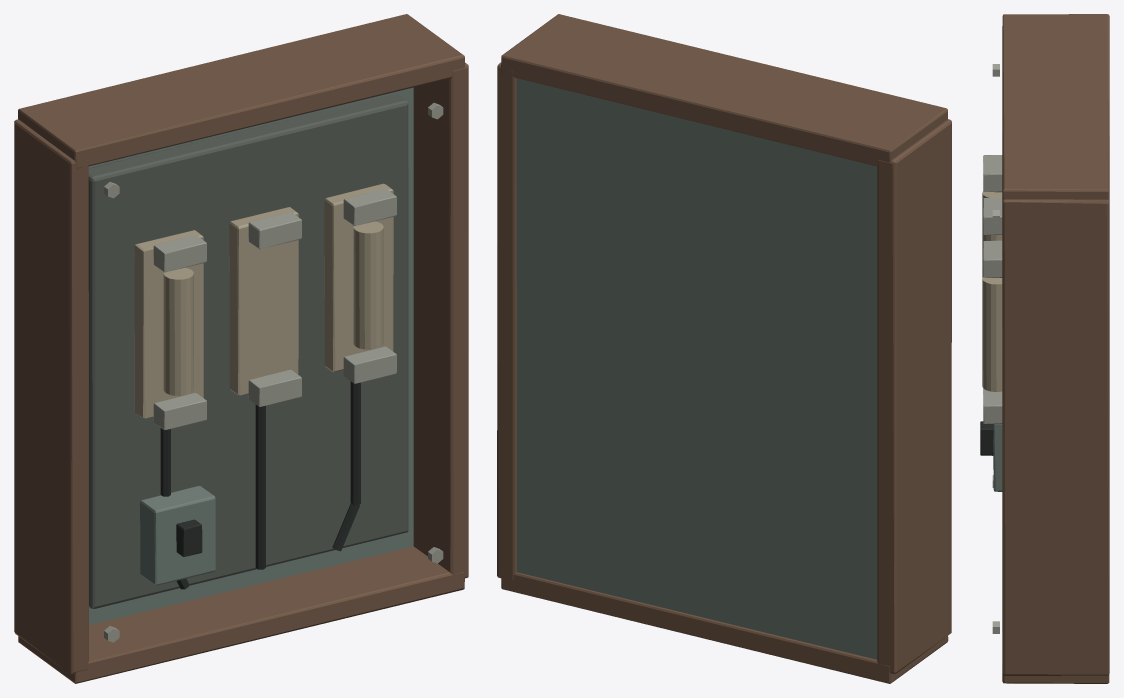
File: fuse_panel_low.glb
3 views of the same model, side by side, from view 1: azimuth 30°, elevation 25°; view 2: azimuth 150°, elevation 25°; view 3: azimuth 270°, elevation 25° (orthographic). The views are drawn at different scales.
Visible parts, largest first — view 1: fuse_panel.001; view 2: fuse_panel.001; view 3: fuse_panel.001.
Part boxes in pixels (bbox=[...]): fuse_panel.001: bbox=[14, 14, 468, 683]; fuse_panel.001: bbox=[497, 14, 951, 683]; fuse_panel.001: bbox=[980, 14, 1109, 683].
Size of the model in its own units: 0.715 by 0.915 by 0.2171.
